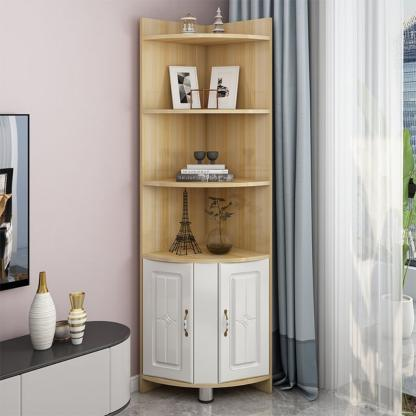Cabinet: (142, 257, 272, 384)
Curtains: (226, 0, 411, 398)
